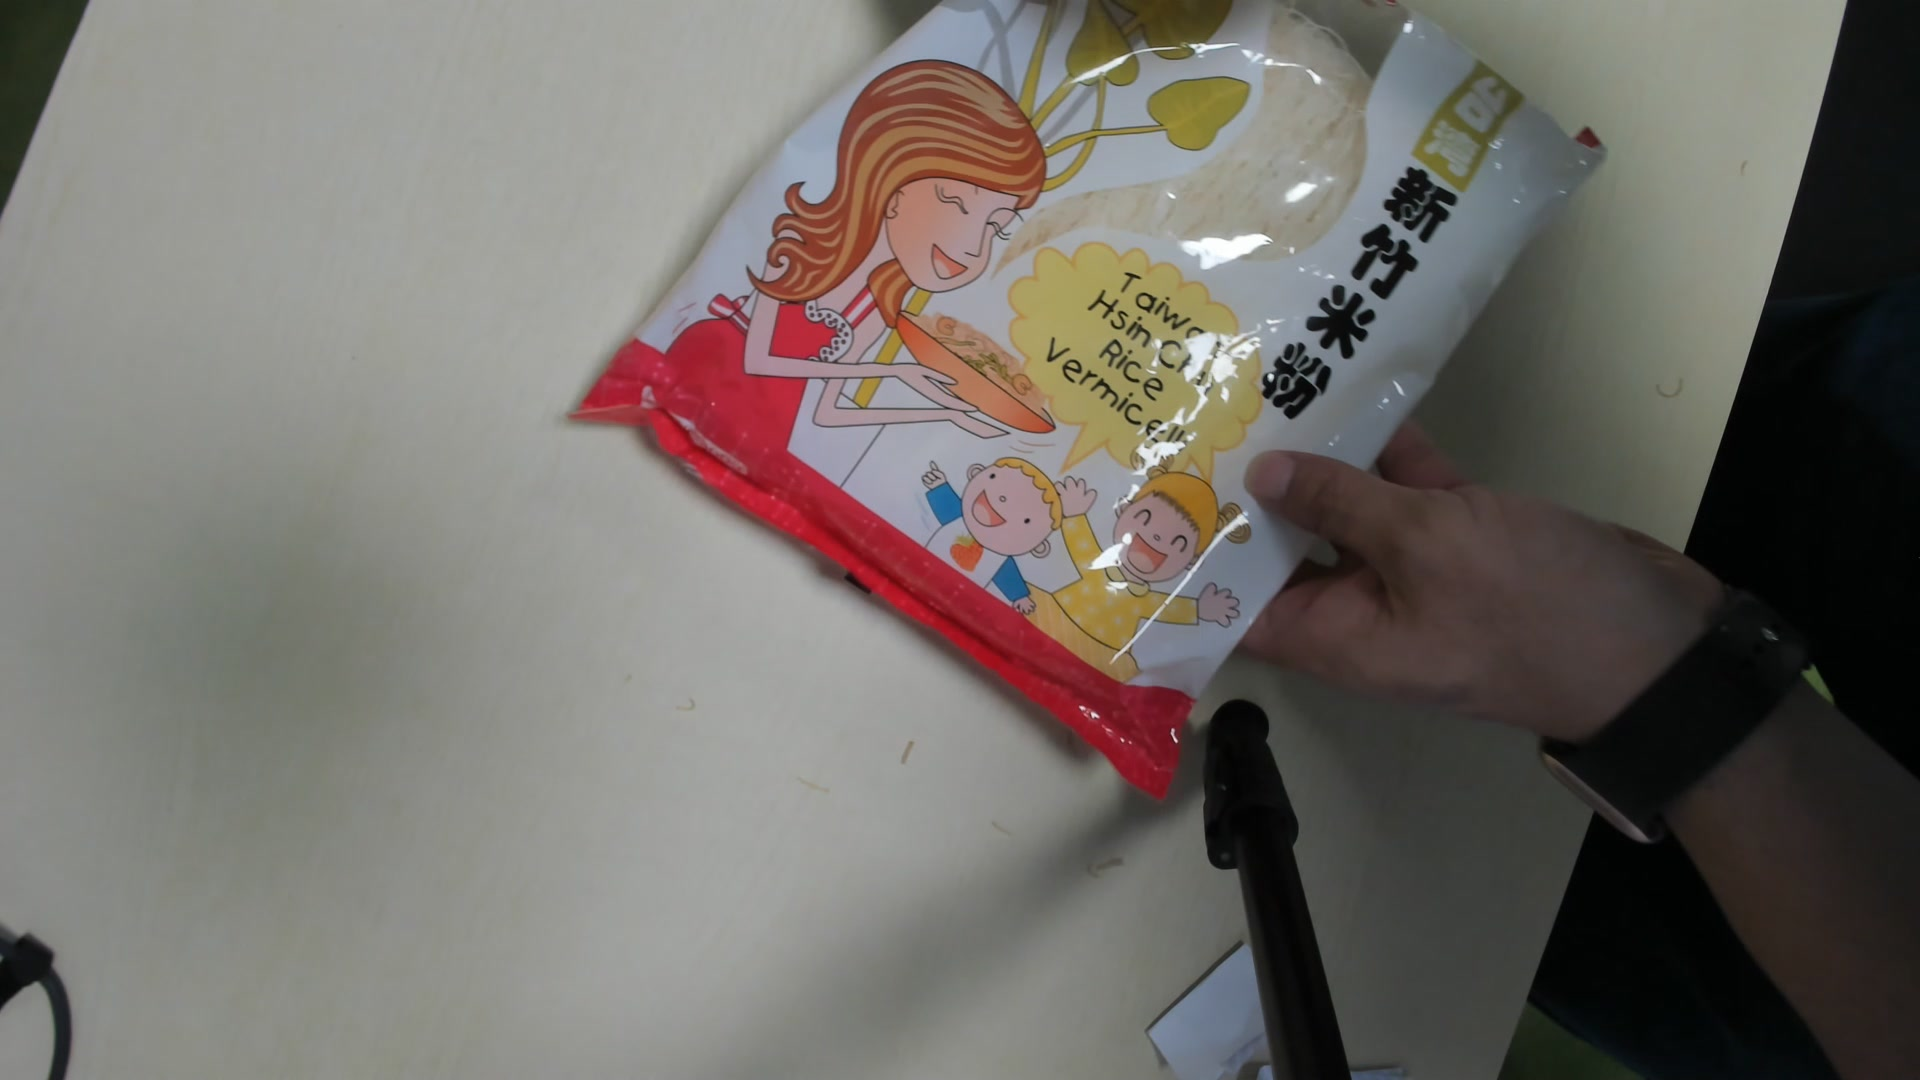BeeHoonVermicelli_0-99g_NonHalal_NonHealthy: (578, 8, 1615, 799)
